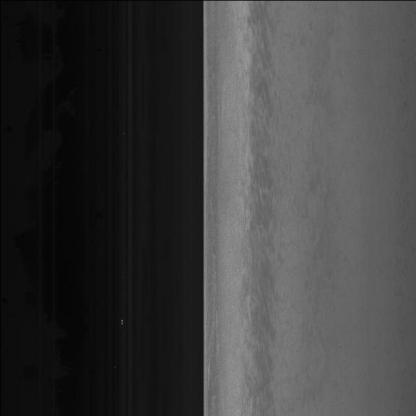silk_spot: (236, 160, 278, 277)
